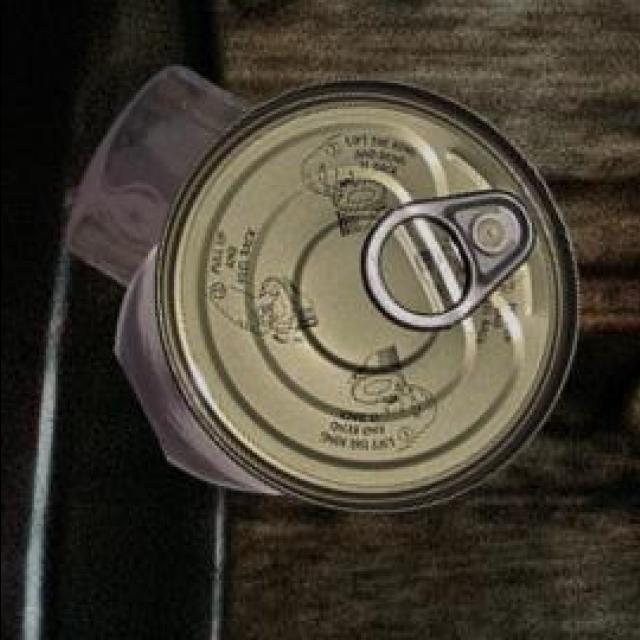logam: (120, 77, 582, 508), (68, 63, 257, 283)
